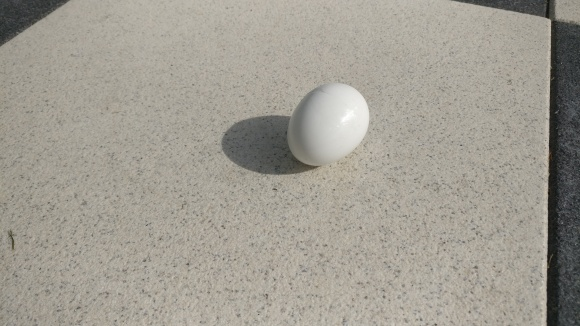egg: (285, 80, 371, 166)
